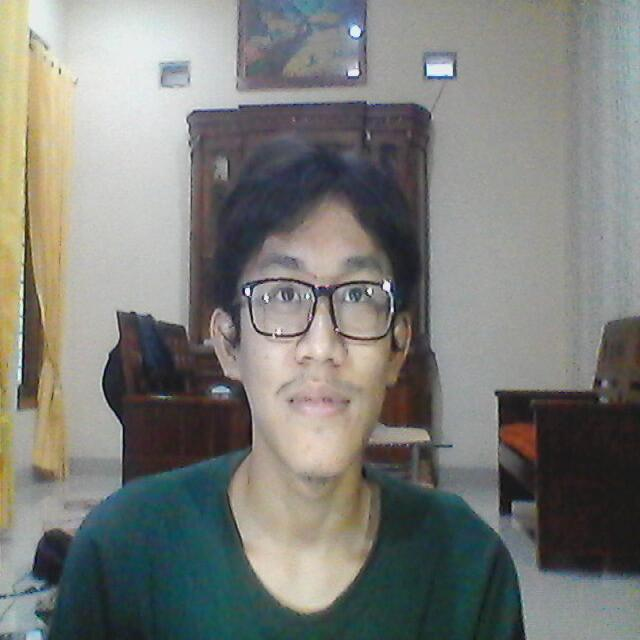eye: (270, 284, 305, 310), (340, 282, 375, 308)
gaze: (350, 287, 362, 303), (282, 287, 294, 302)
